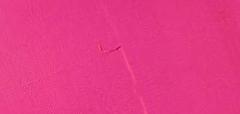snag: (95, 38, 125, 56)
